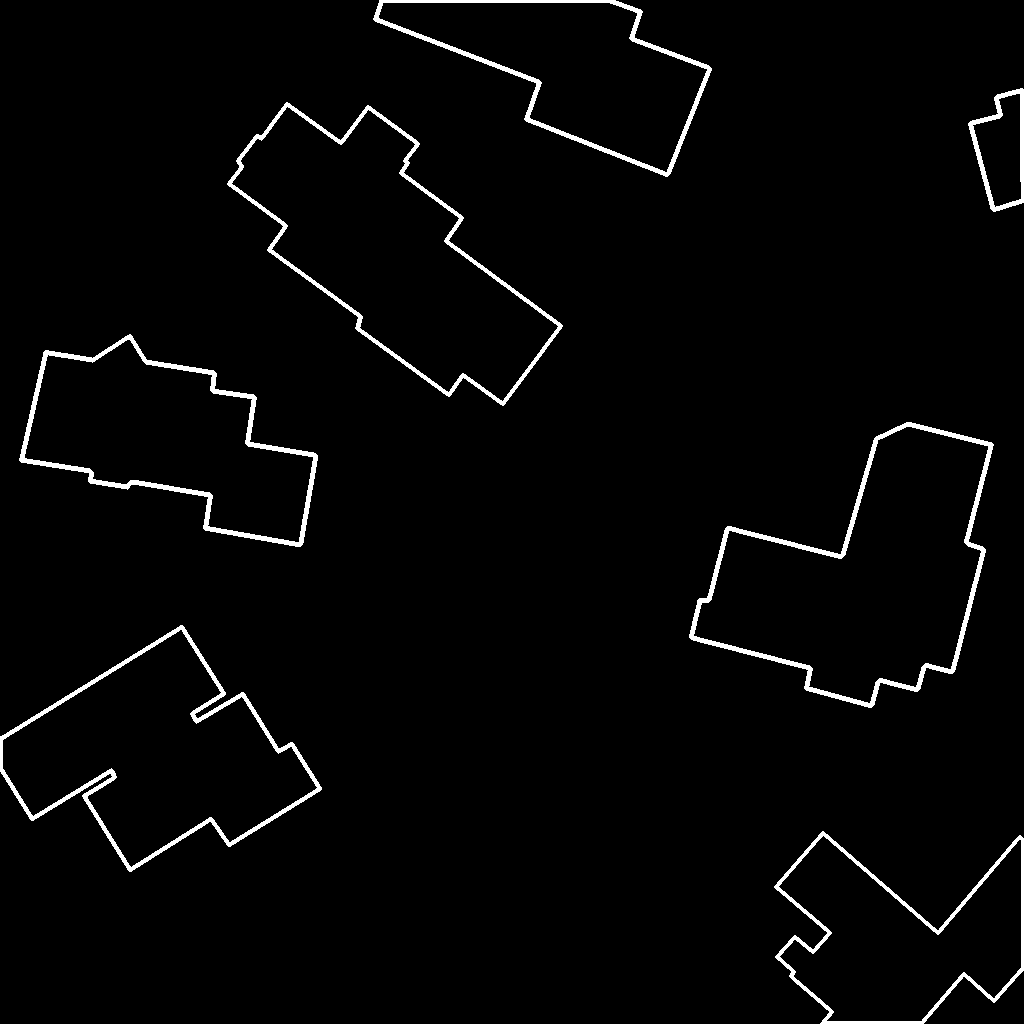building: (229, 104, 562, 405), (691, 424, 993, 707), (0, 627, 321, 871), (21, 336, 317, 546), (375, 0, 711, 176), (776, 833, 1024, 1024), (970, 90, 1024, 211)
